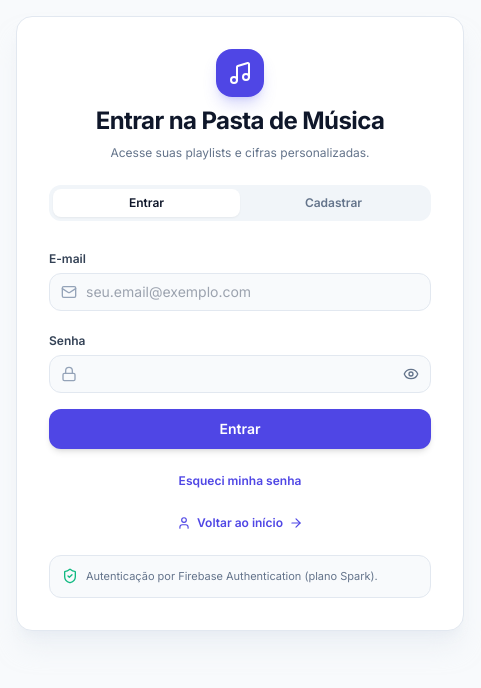
Scenario: Autenticação › rejeita formato de e-mail inválido
The width and height of the screenshot is (481, 688).
In the field labelled "E-mail": (240, 292) [49,273,431,311], type "invalido"
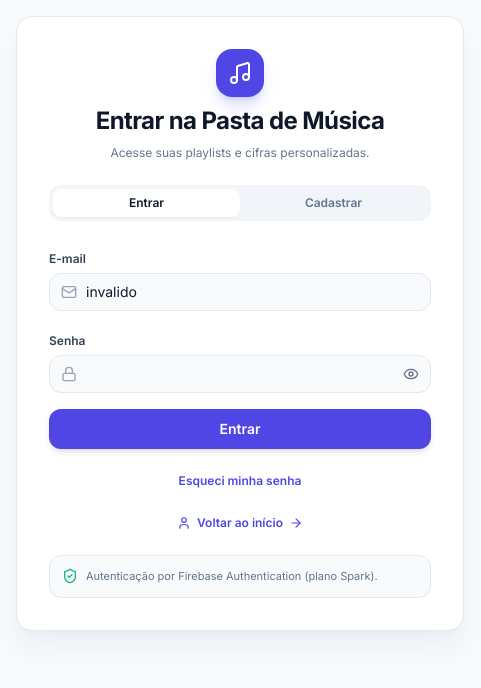
In the password field labelled "Senha": (240, 374) [49,355,431,393], type "senha123"
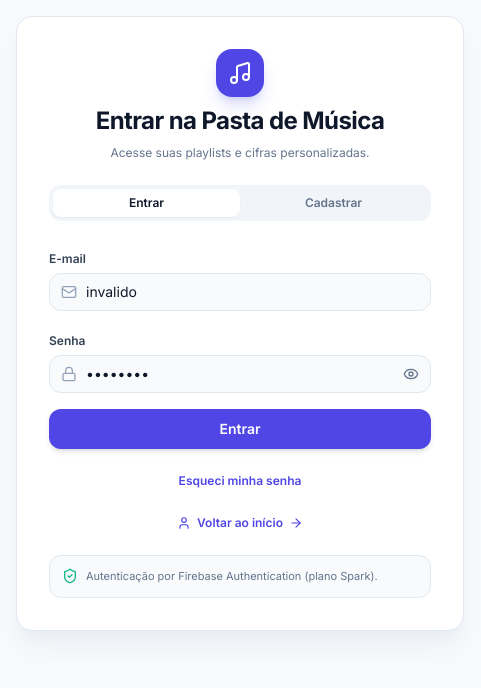
Click the button "Entrar": (240, 429) [49,409,431,449]
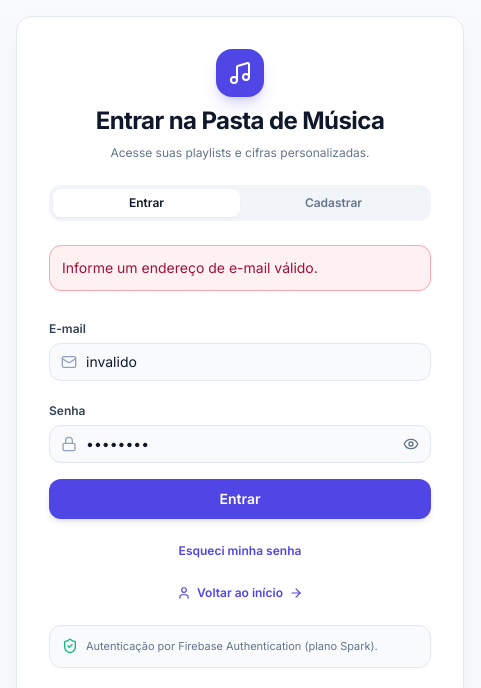
Check: the message reads "Informe um endereço de e-mail válido.", box [62,259,318,276]
